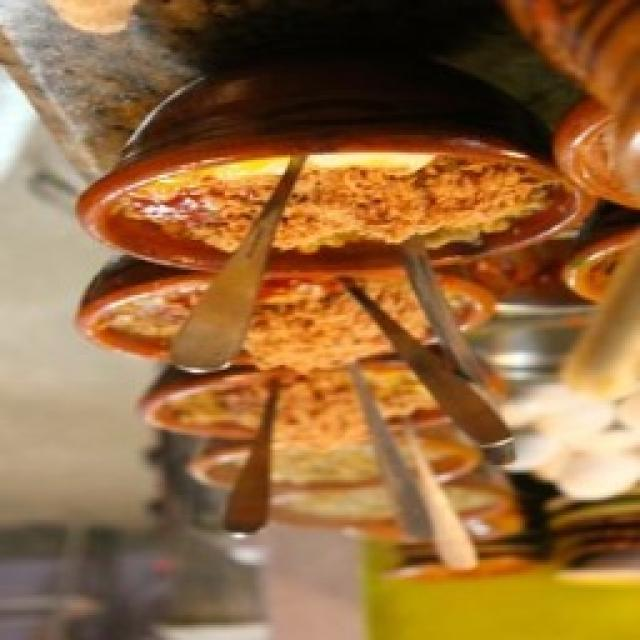Lablabi: (78, 120, 578, 535)
